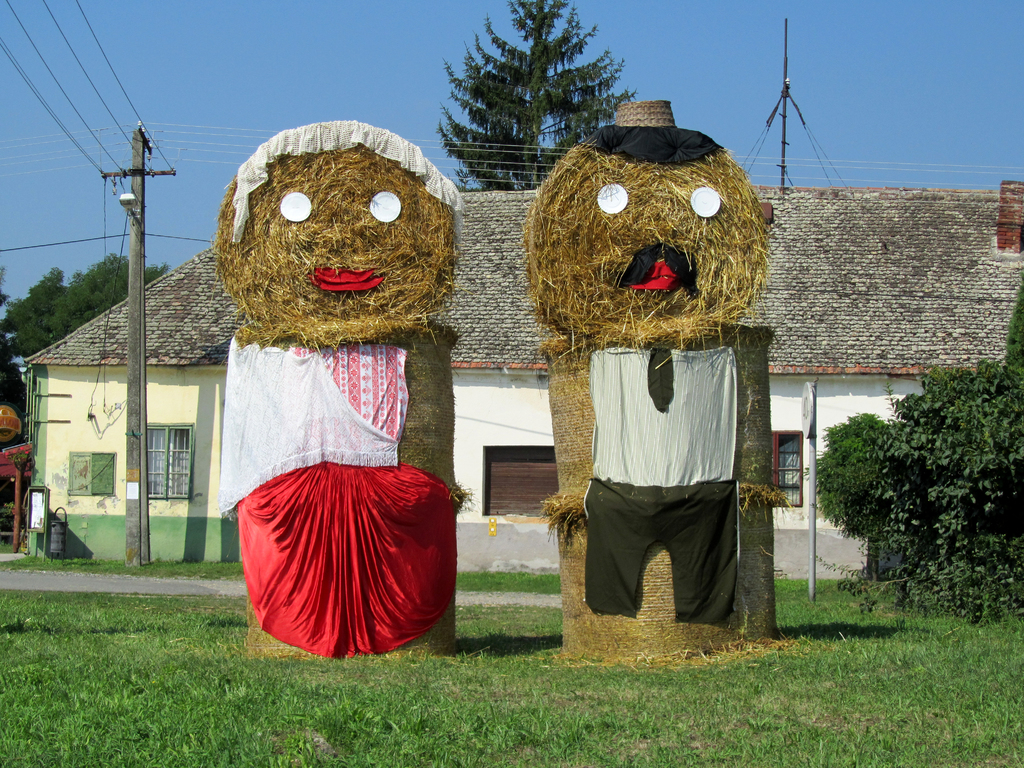Tree: (435, 0, 638, 192), (0, 251, 170, 415)
